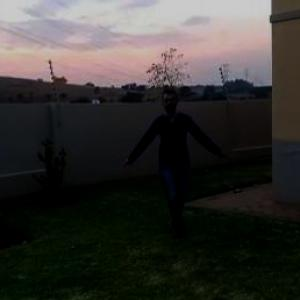land: (120, 82, 229, 252)
